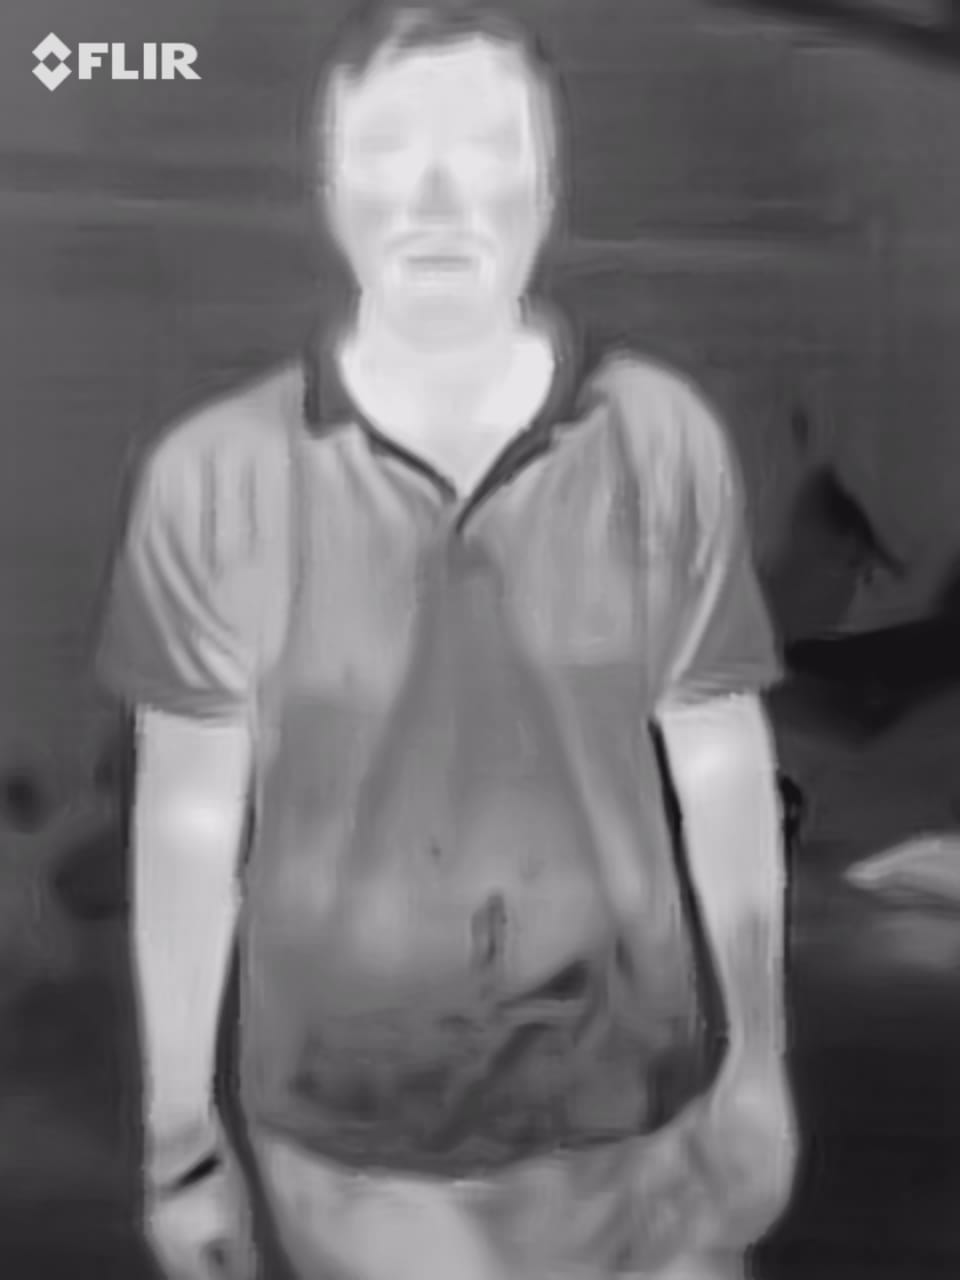head: (306, 15, 575, 353)
